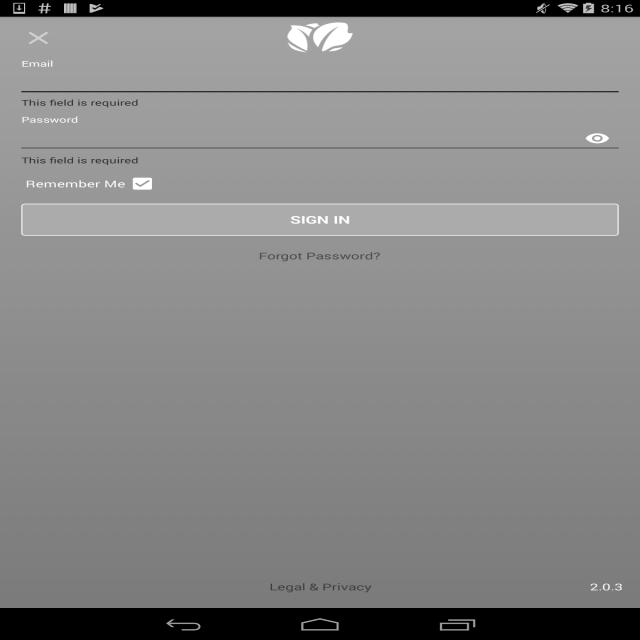Button: (17, 200, 623, 240), (246, 240, 393, 272), (256, 570, 384, 602)
CheckedTextView: (26, 173, 160, 194)
EditText: (17, 123, 623, 154), (17, 67, 623, 97)
ImageButton: (9, 17, 68, 59), (572, 122, 623, 154)
ImageView: (238, 21, 402, 56)
TextView: (21, 154, 139, 166), (21, 97, 139, 108), (590, 580, 623, 593)
